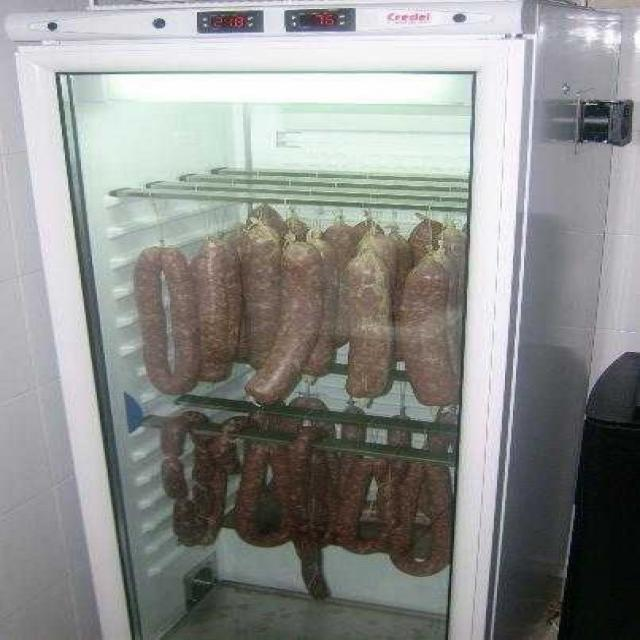refrigerator: (16, 0, 542, 640)
